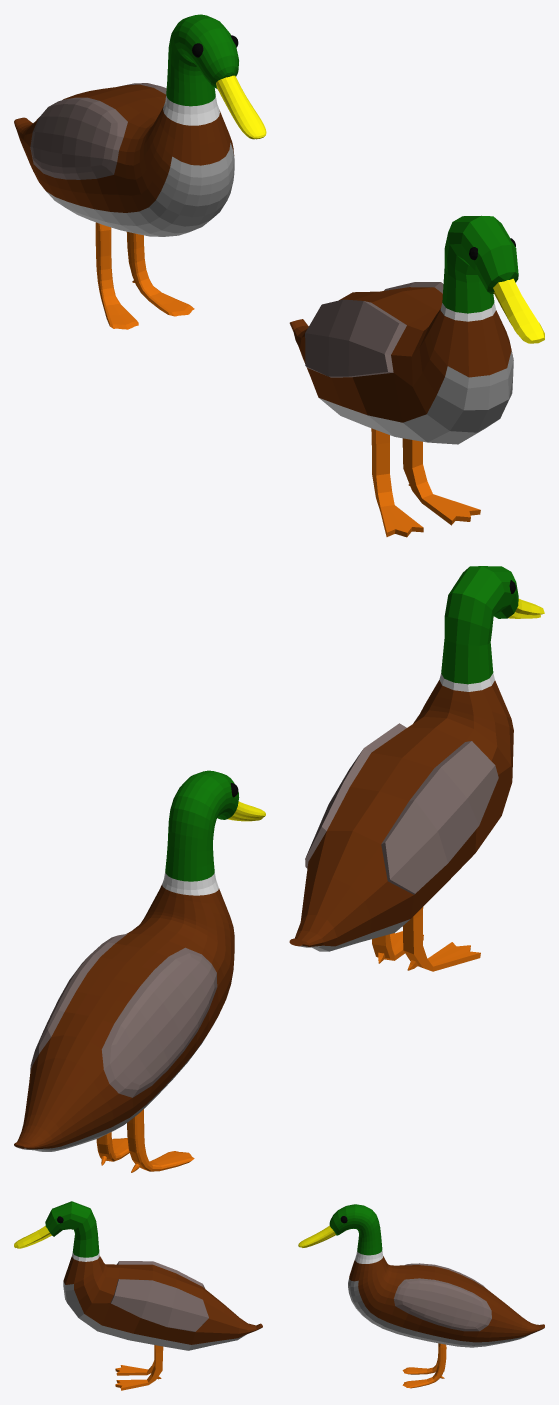
File: lowpoly_duck.glb
The picture shows the model from 3 angles, top to bottom: view 1: azimuth 30°, elevation 25°; view 2: azimuth 150°, elevation 25°; view 3: azimuth 270°, elevation 25°; orthographic projection. The views are drawn at different scales.
Parts seen in each view (by area): view 1: Circle, Circle.001; view 2: Circle, Circle.001; view 3: Circle, Circle.001.
Boxes of the visible parts, x1,y1,x2,y2 form: Circle: [289, 215, 544, 537]; Circle.001: [14, 14, 266, 329]; Circle: [289, 566, 544, 971]; Circle.001: [14, 770, 265, 1172]; Circle: [14, 1201, 262, 1390]; Circle.001: [298, 1204, 544, 1388].
Size of the model in its own units: 1.09 by 2.75 by 7.49.
